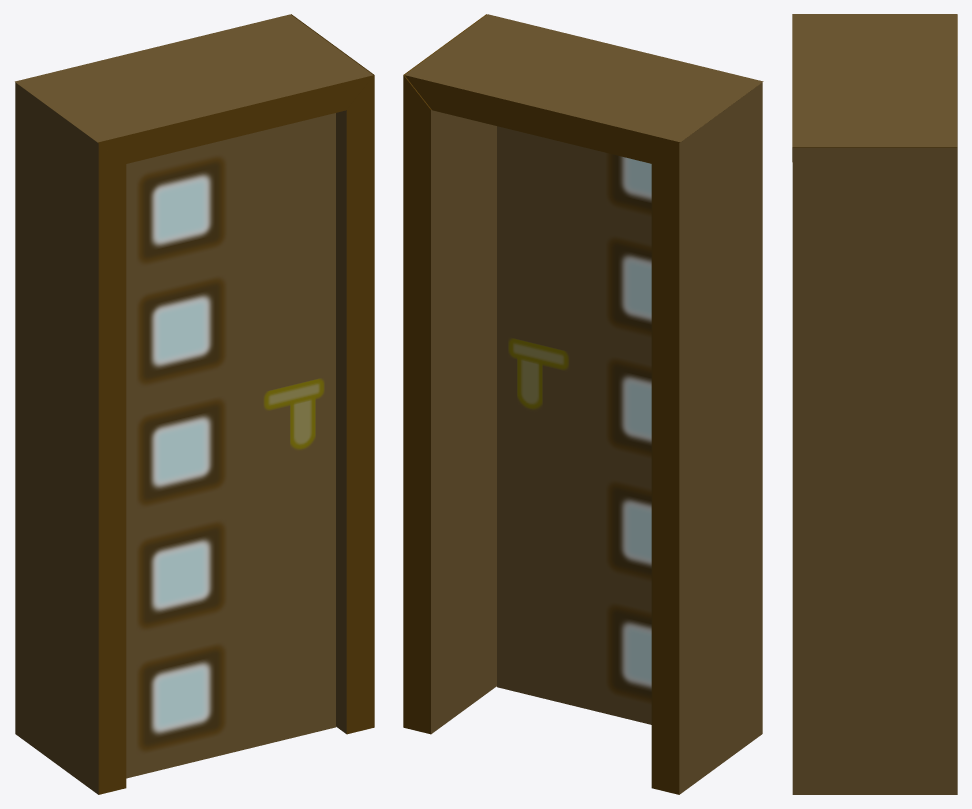
File: Door.fbx
The picture shows the model from 3 angles, left to right: view 1: azimuth 30°, elevation 25°; view 2: azimuth 150°, elevation 25°; view 3: azimuth 270°, elevation 25°; orthographic projection.
Parts seen in each view (by area): view 1: Door, Doorframe.002, Doorframe.001, Doorframe.003; view 2: Door, Doorframe.002, Doorframe.003, Doorframe.001; view 3: Doorframe.003, Doorframe.001.
Boxes of the visible parts, x1,y1,x2,y2 form: Door: (126, 113, 335, 778); Doorframe.002: (15, 82, 126, 794); Doorframe.001: (15, 14, 373, 164); Doorframe.003: (291, 14, 374, 734); Door: (497, 126, 651, 724); Doorframe.002: (651, 82, 762, 794); Doorframe.003: (403, 14, 496, 734); Doorframe.001: (404, 14, 763, 163); Doorframe.003: (792, 148, 957, 794); Doorframe.001: (792, 14, 957, 161).
Size of the model in its own units: 56.44 by 127 by 29.41.
1 material, 1 textured.
